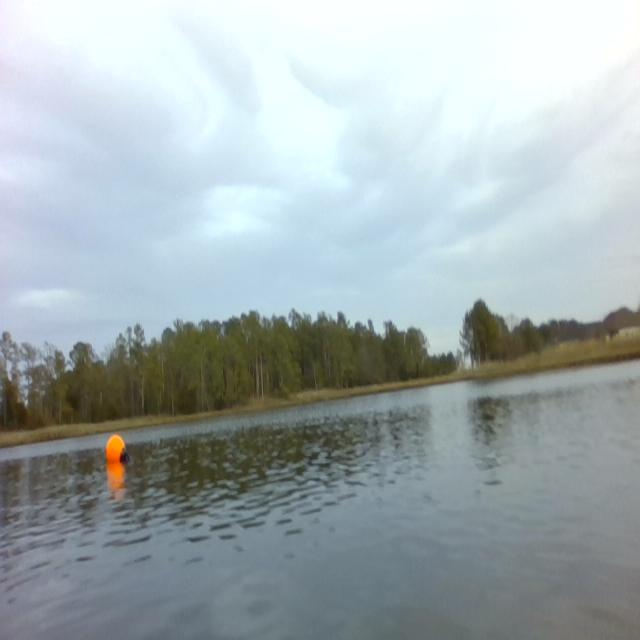Buoy: (104, 433, 132, 467)
